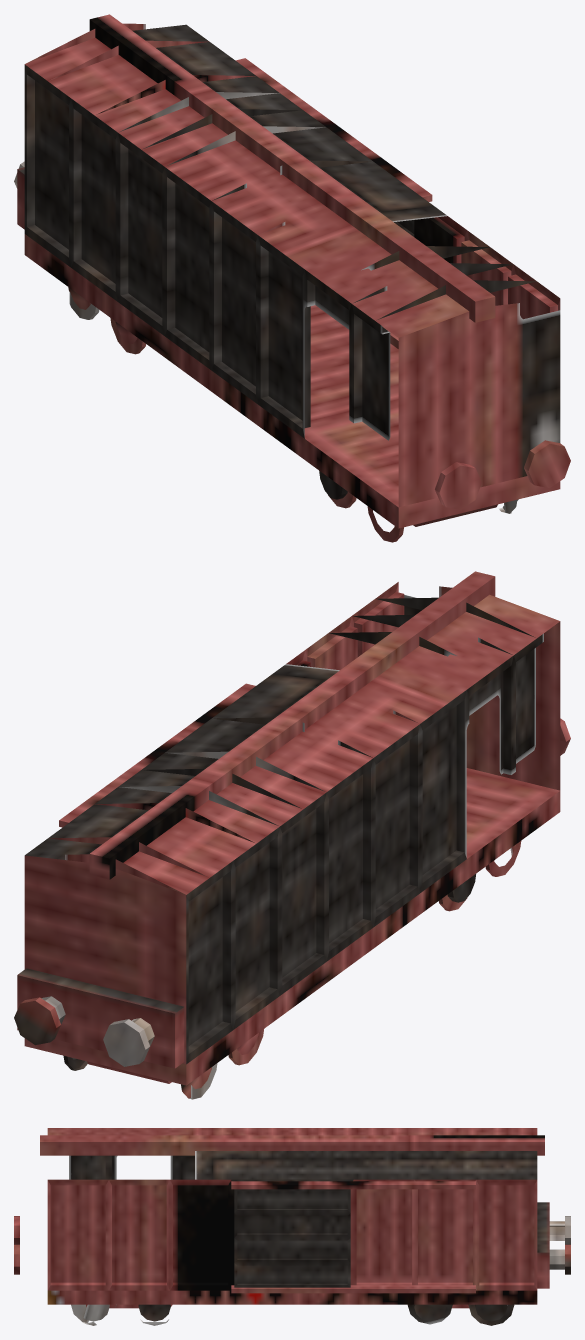
Rendered from boxcar.obj.
The picture shows the model from 3 angles, top to bottom: view 1: azimuth 30°, elevation 25°; view 2: azimuth 150°, elevation 25°; view 3: azimuth 270°, elevation 25°; orthographic projection. The views are drawn at different scales.
Parts seen in each view (by area): view 1: boxcar; view 2: boxcar; view 3: boxcar.
Part boxes in pixels (x1,y1,x2,y2): boxcar: (14, 14, 570, 542); boxcar: (14, 571, 570, 1099); boxcar: (14, 1128, 570, 1325).
Size of the model in its own units: 2.15 by 3.03 by 9.1.
